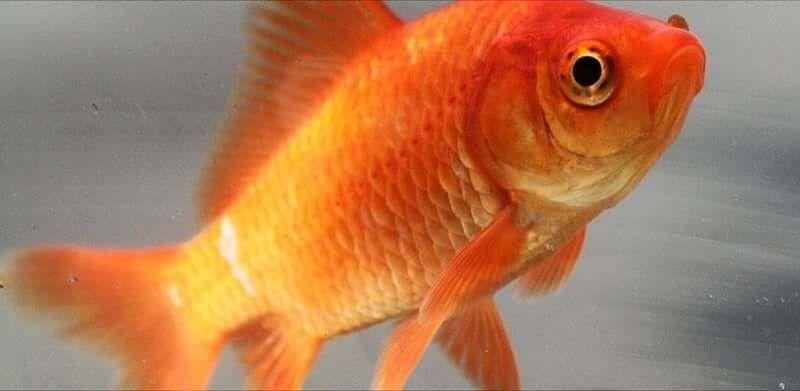Gold Fish: (0, 0, 707, 391)
